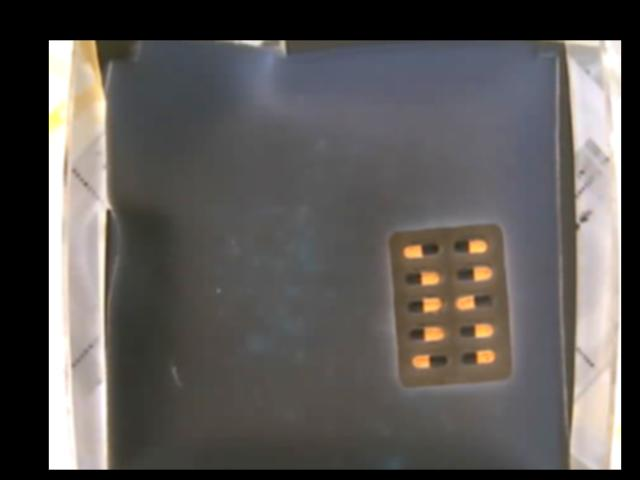Medicine: (390, 221, 512, 386)
